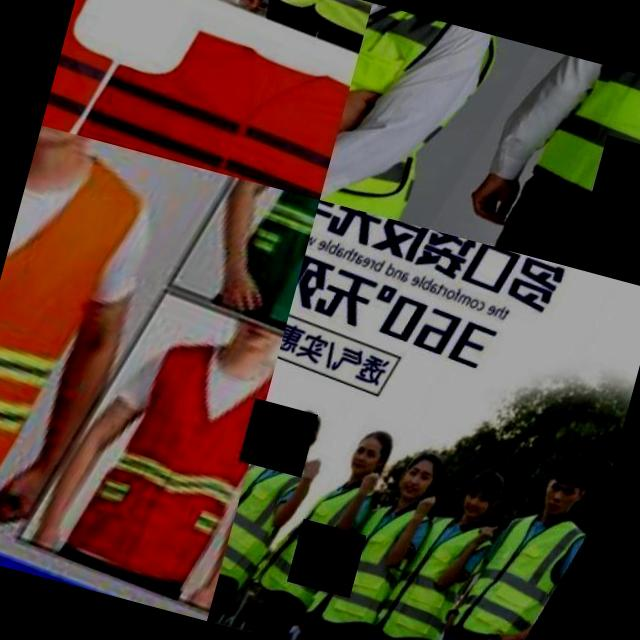vest: (0, 125, 177, 564), (50, 311, 278, 619), (319, 2, 490, 232), (529, 55, 640, 245), (205, 180, 319, 348), (321, 502, 435, 640), (272, 477, 378, 619), (466, 518, 589, 640), (387, 519, 504, 640), (218, 462, 318, 598), (257, 0, 371, 54)
